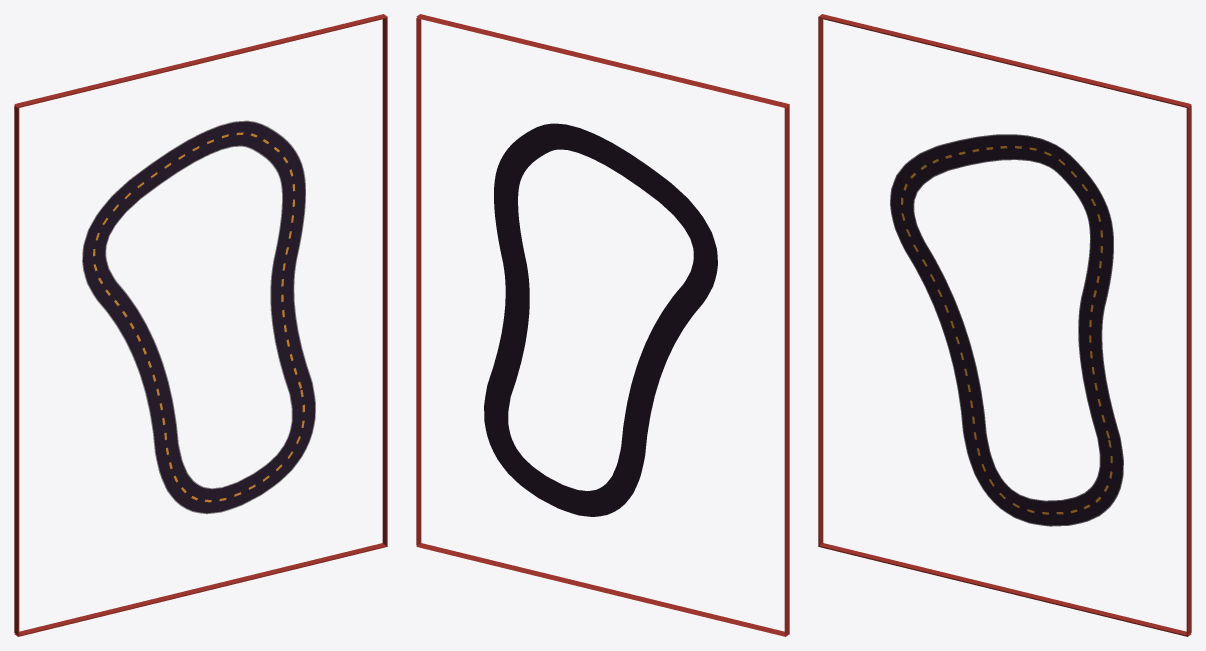
The model's file is track.obj.
The picture shows the model from 3 angles, left to right: view 1: azimuth 30°, elevation 25°; view 2: azimuth 150°, elevation 25°; view 3: azimuth 330°, elevation 25°; orthographic projection.
Bounding box in the file's own units: 16.16 × 22.14 × 0.3.
